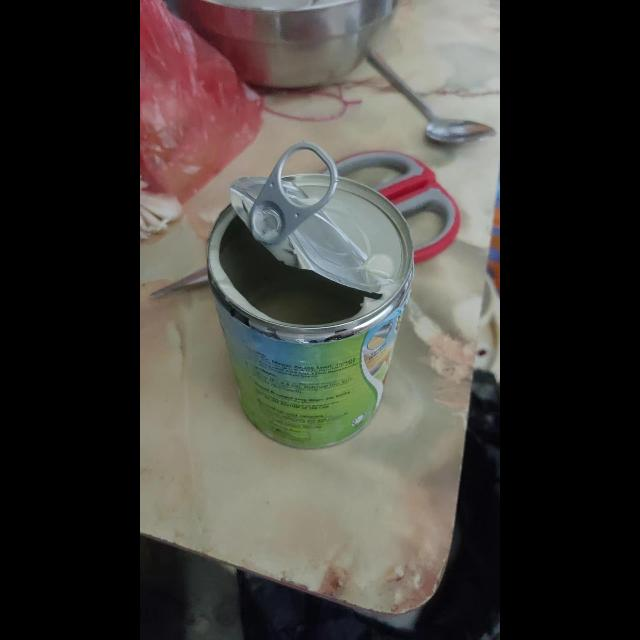aba de lata: (248, 144, 338, 246)
lata: (206, 142, 414, 452)
